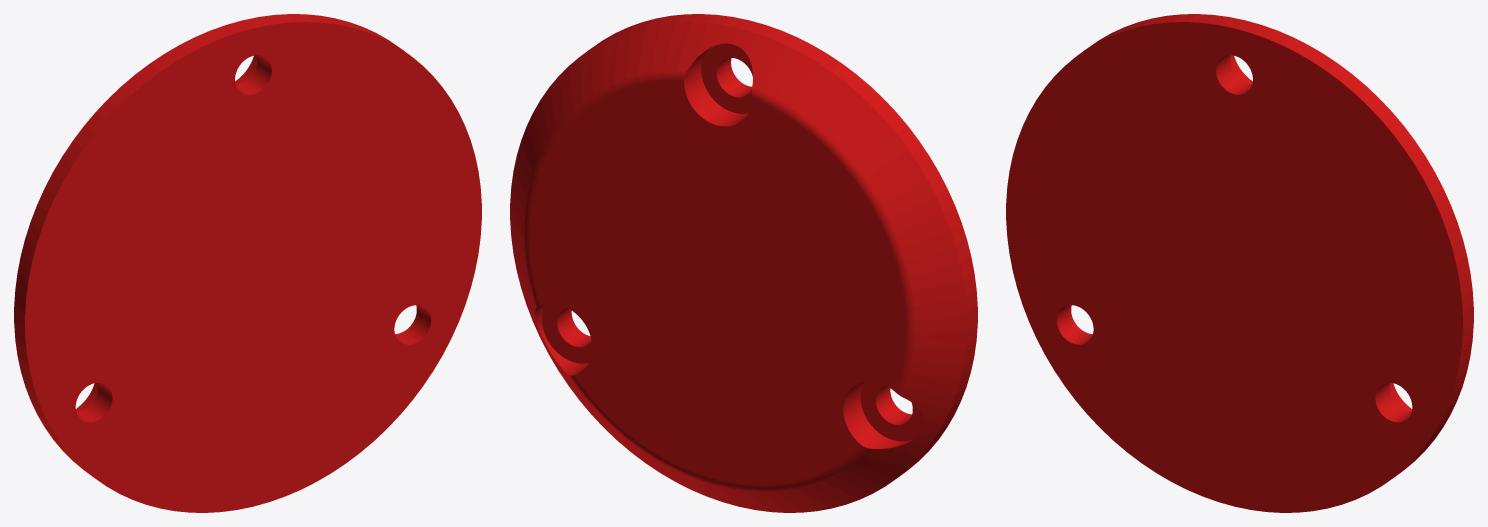
The model's file is Tapa 4M1.dae.
The picture shows the model from 3 angles, left to right: view 1: azimuth 30°, elevation 25°; view 2: azimuth 150°, elevation 25°; view 3: azimuth 330°, elevation 25°; orthographic projection.
Parts seen in each view (by area): view 1: Tapa_4M1_001; view 2: Tapa_4M1_001; view 3: Tapa_4M1_001.
Boxes of the visible parts, x1,y1,x2,y2 form: Tapa_4M1_001: (14, 14, 481, 512); Tapa_4M1_001: (510, 14, 977, 512); Tapa_4M1_001: (1006, 14, 1473, 512).
Bounding box in the file's own units: 38.48 × 4.6 × 38.5.
